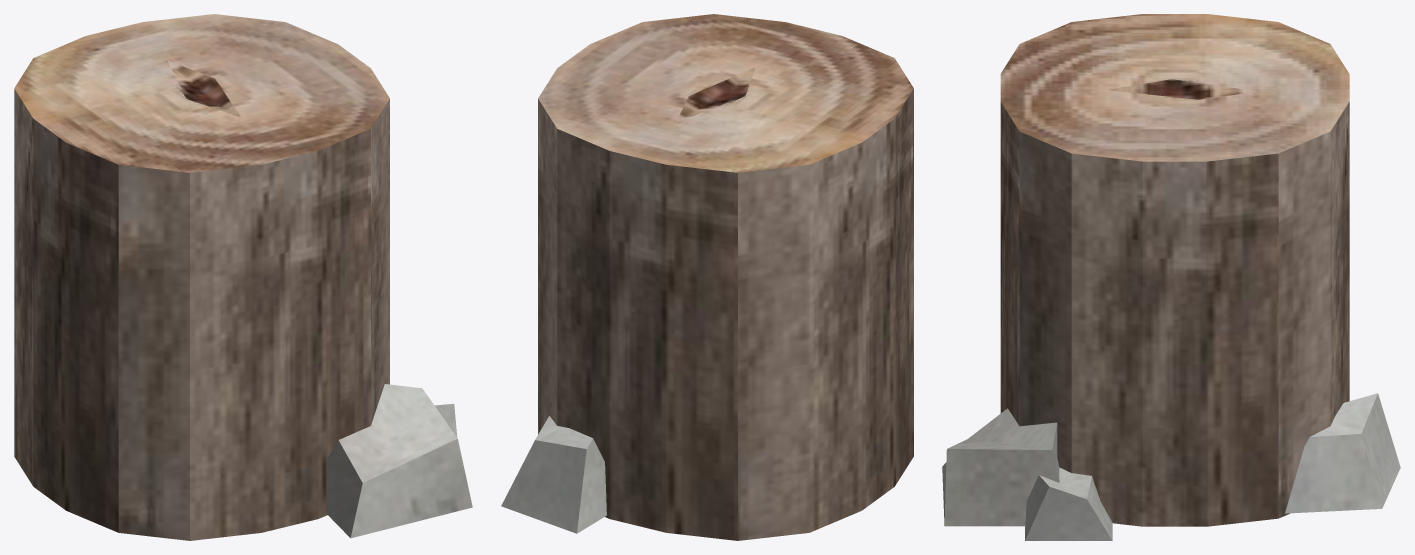
The model's file is log.fbx.
3 views of the same model, side by side, from view 1: azimuth 30°, elevation 25°; view 2: azimuth 150°, elevation 25°; view 3: azimuth 270°, elevation 25° (orthographic).
Parts seen in each view (by area): view 1: choplog; view 2: choplog; view 3: choplog.
Part boxes in pixels (x1,y1,x2,y2): choplog: (14, 14, 472, 540); choplog: (501, 14, 913, 540); choplog: (942, 14, 1400, 540).
Size of the model in its own units: 224 by 231 by 263.
